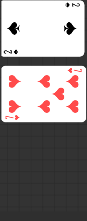2C: (3, 48, 20, 55)
7H: (5, 113, 21, 120)
